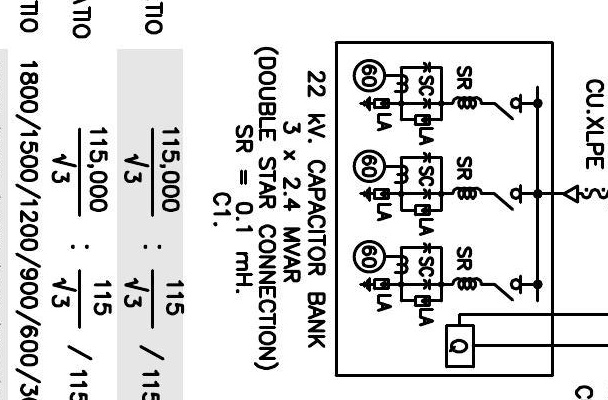22_cap_bank: (334, 40, 555, 378)
Q: (444, 323, 475, 369)
terminator_single: (562, 184, 580, 205)
